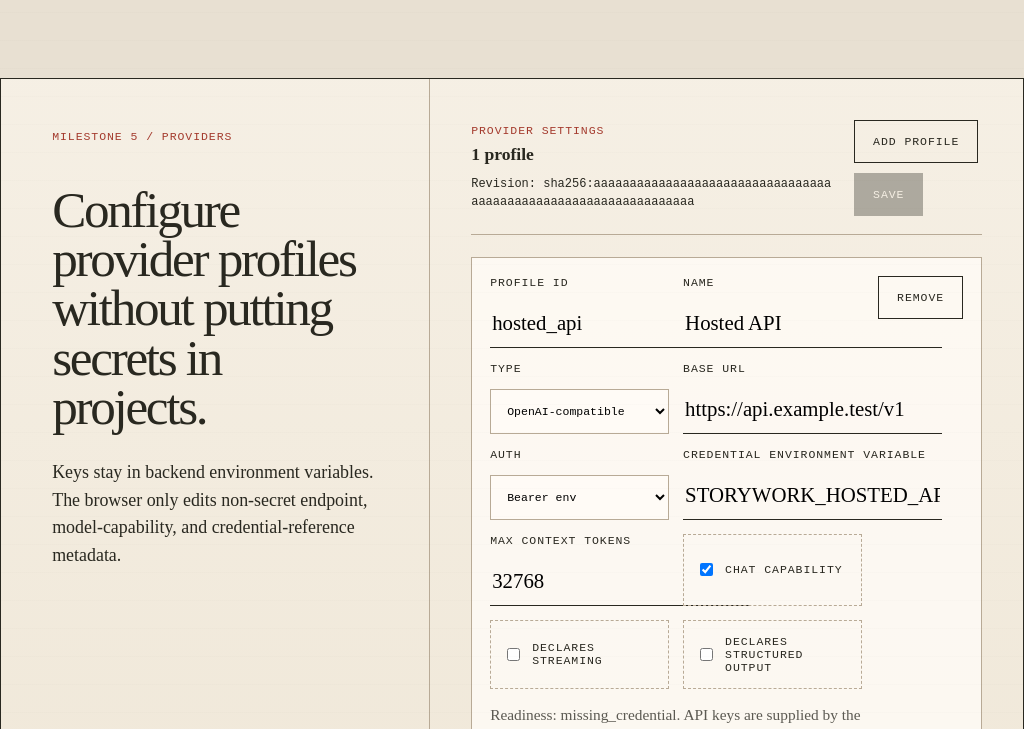
Test: shows conflict feedback and reload confirmation for a dirty draft
Replace the text in the field named "Profile name 1" with "Hosted API v2" at (813, 324), box [683, 299, 942, 348]
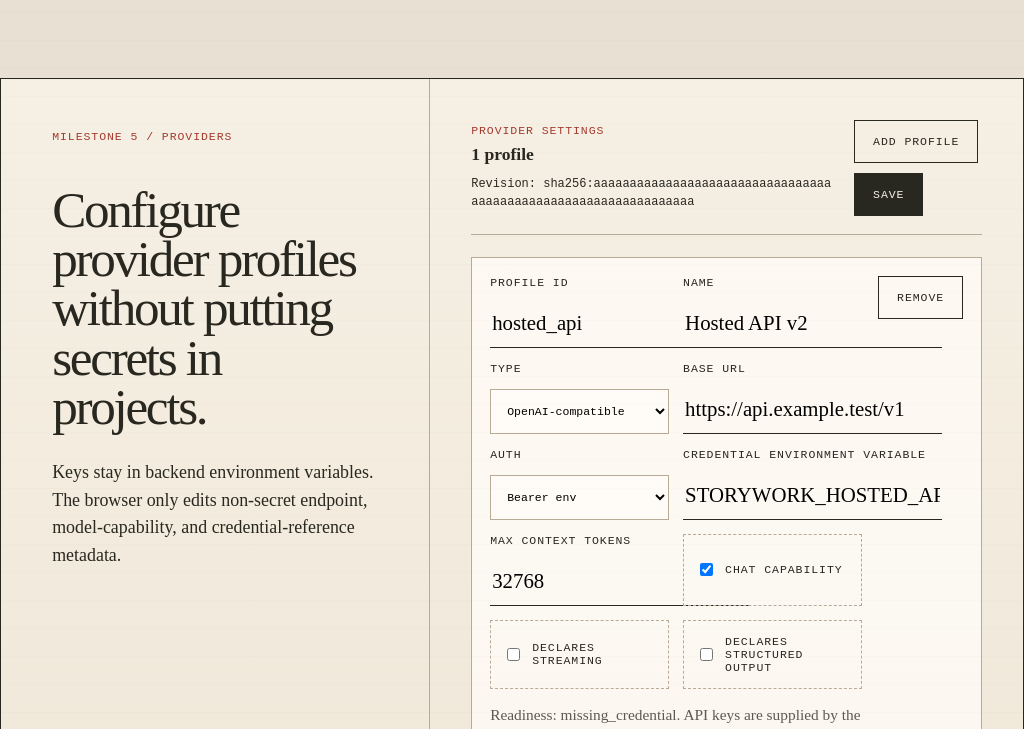
Click the button "Save" at (889, 194), box [854, 173, 923, 216]
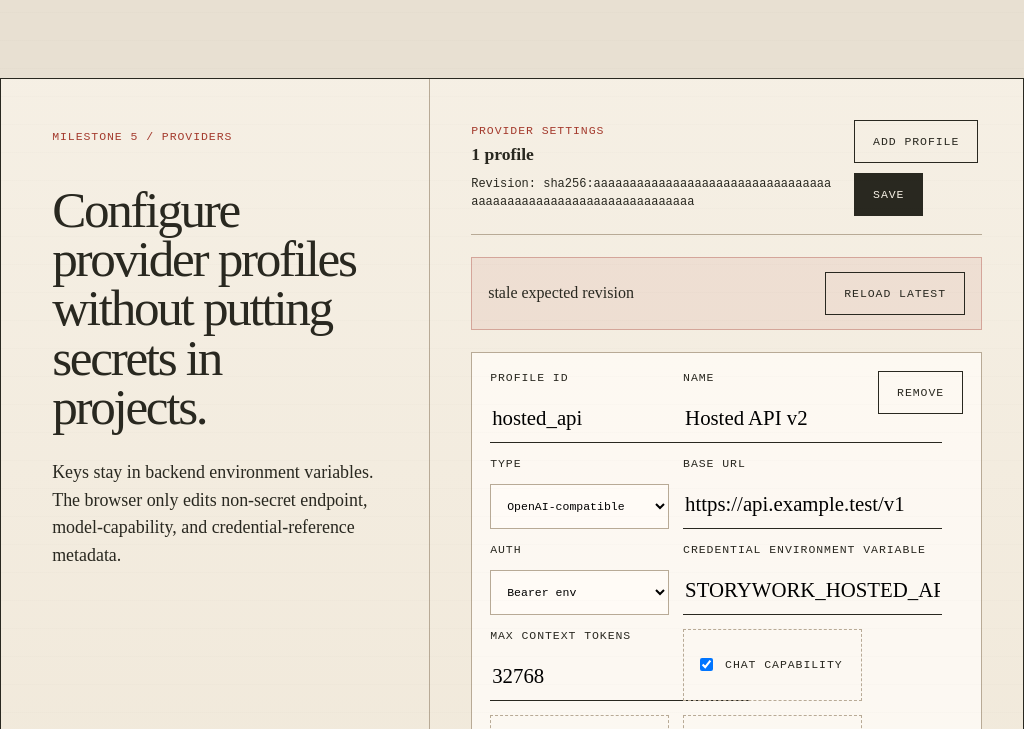
Expected: the text "stale expected revision" is shown, [488, 284, 634, 302]
Click the button "Reload latest" at (895, 294), box [825, 272, 965, 315]
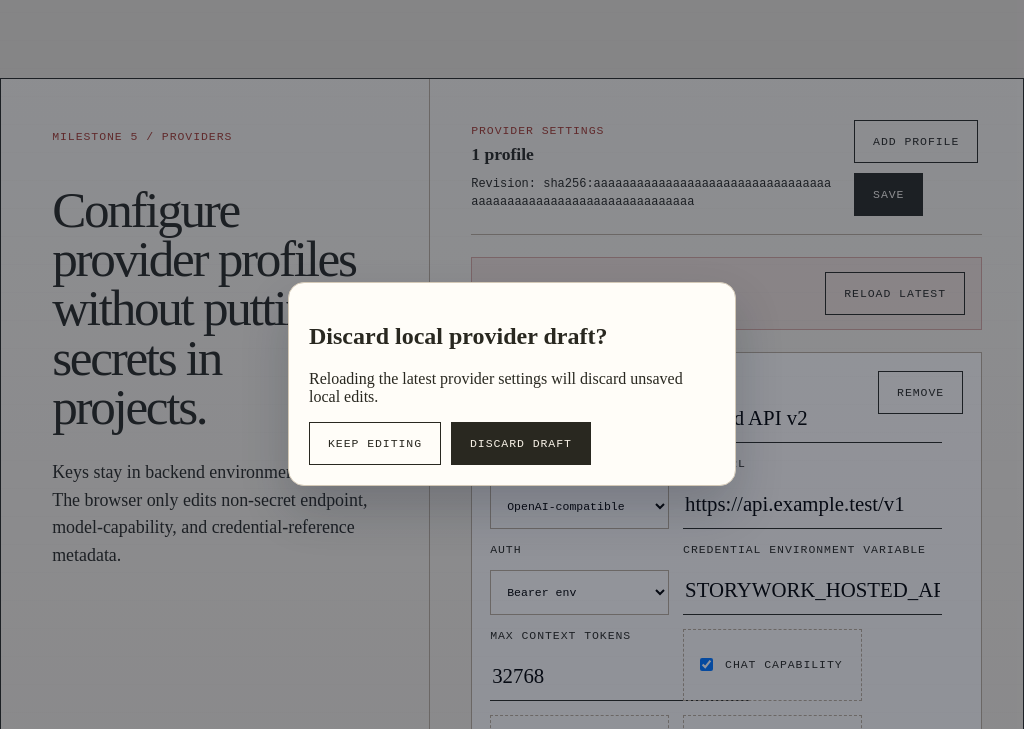
Expected: the dialog is shown, [288, 282, 736, 486]
Click the button "Discard draft" at (521, 443), box [451, 422, 591, 465]
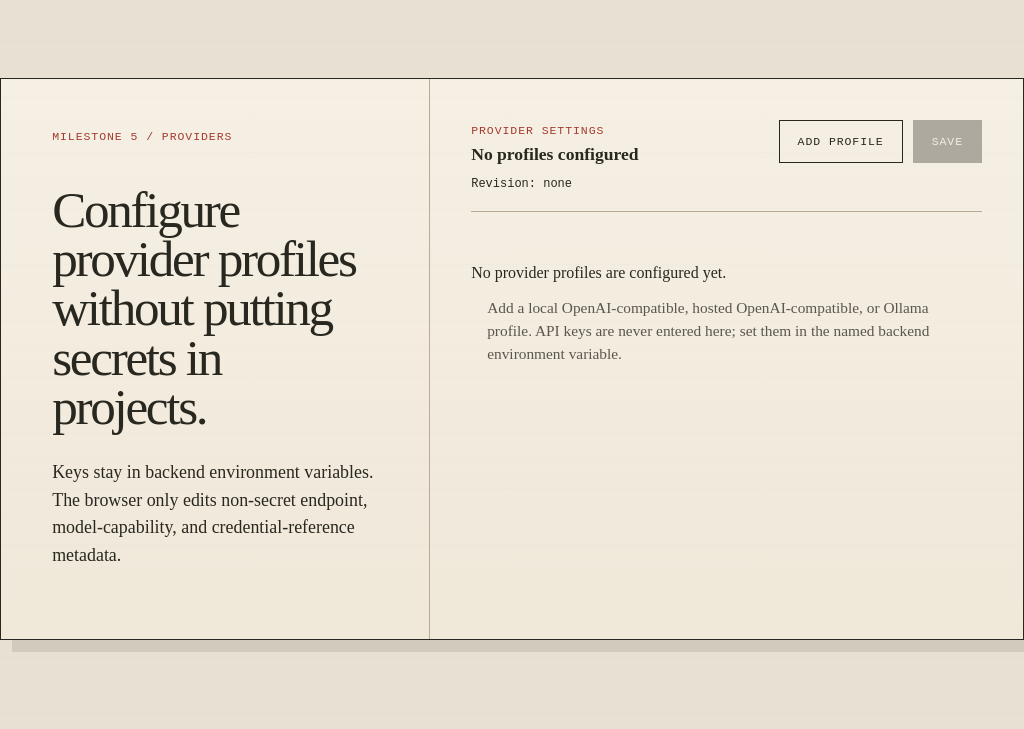
Expected: the text "No provider profiles are configured yet." is shown, [471, 264, 726, 281]
